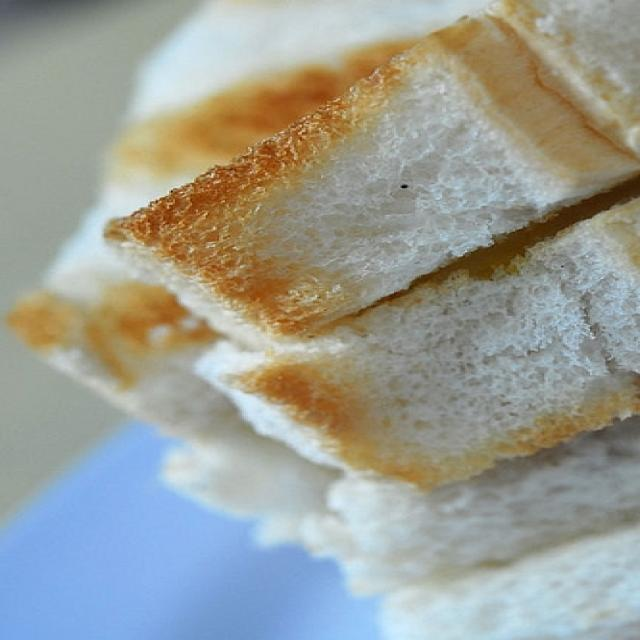面包点心: (27, 26, 634, 613)
